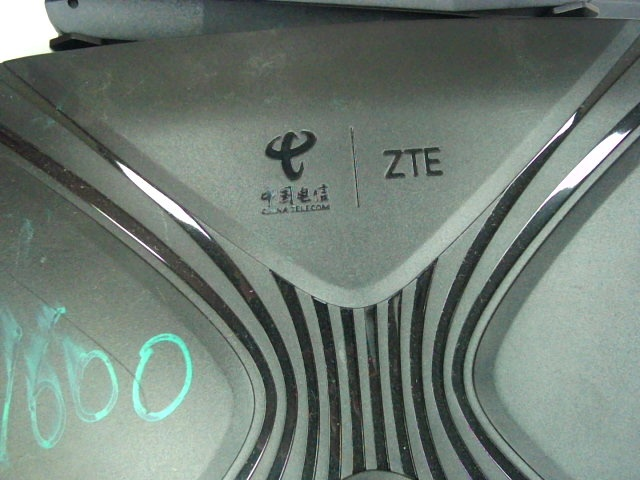AX_ZTEChinaTelecom: (245, 124, 446, 216)
